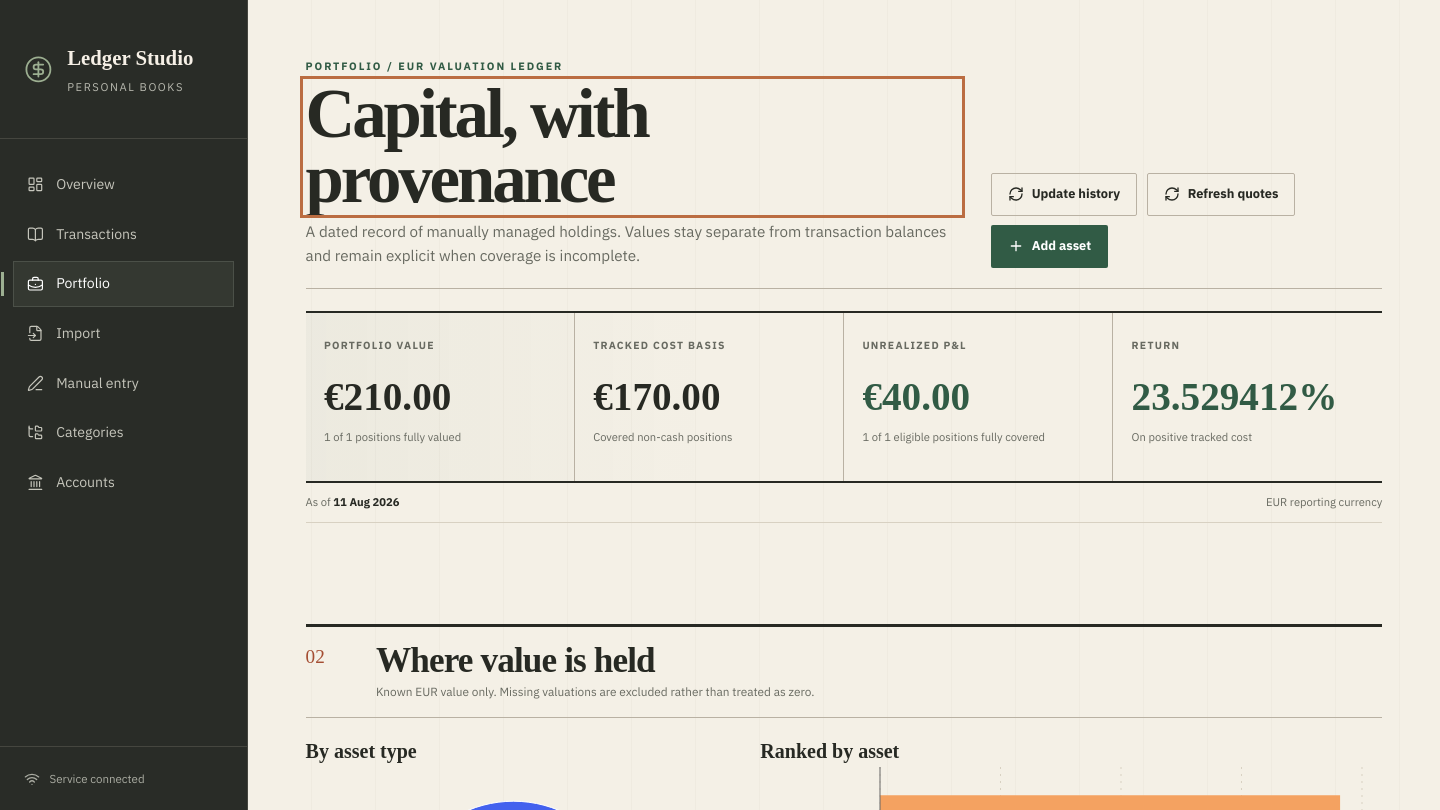
Test case: PortfolioPage › flags mixed market sources inside one grouped quote review
The width and height of the screenshot is (1440, 810).
Expected: the heading "Capital, with provenance" is shown, [306, 76, 648, 217]
Click the button "Refresh quotes" at [1221, 194], box [1147, 173, 1296, 216]
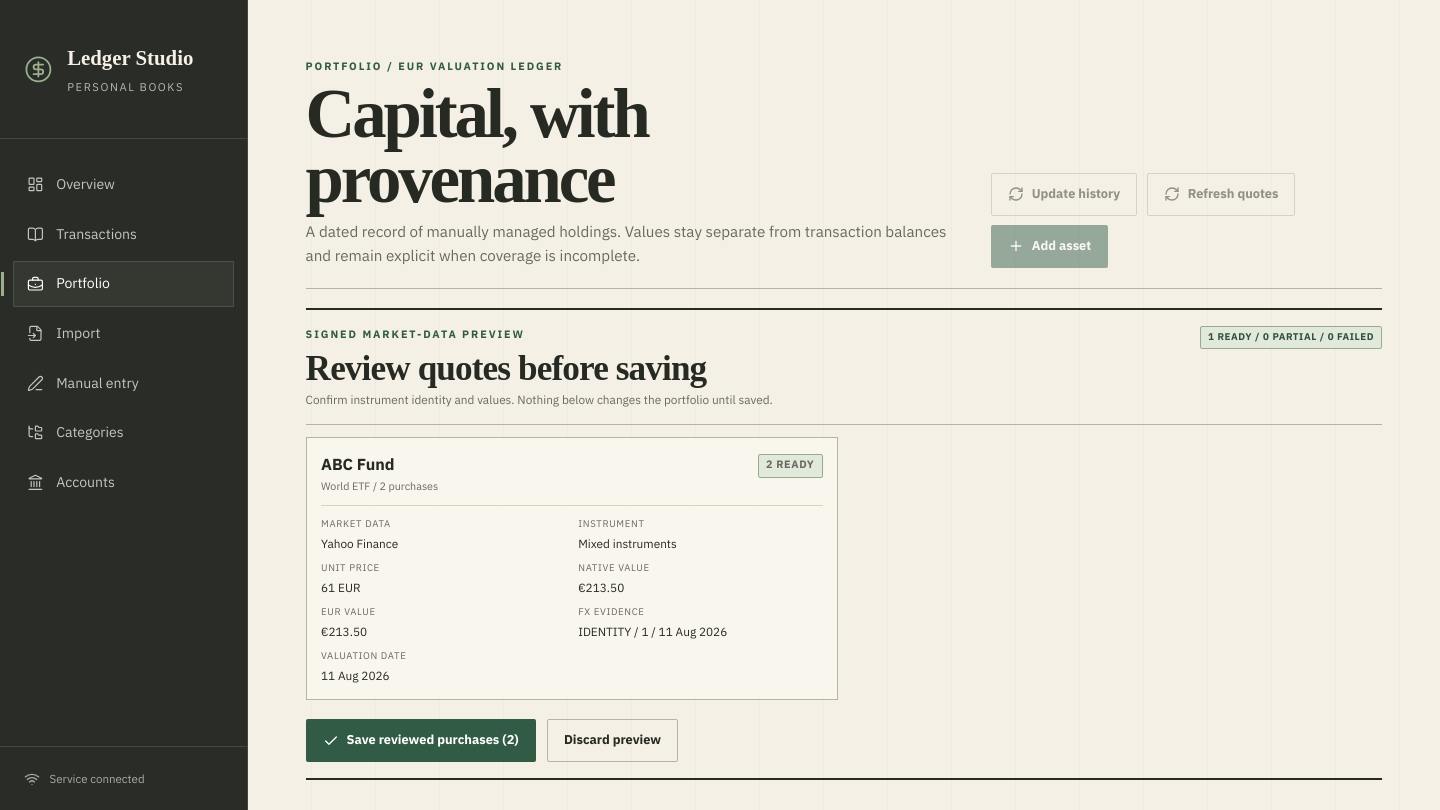
Expected: the text "Mixed instruments" is shown, [578, 536, 677, 551]
Expected: the text "1 ready / 0 partial / 0 failed" is shown, [1200, 326, 1382, 349]
